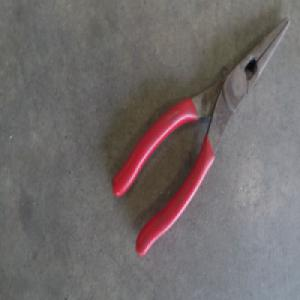Pliers: (107, 8, 279, 254)
